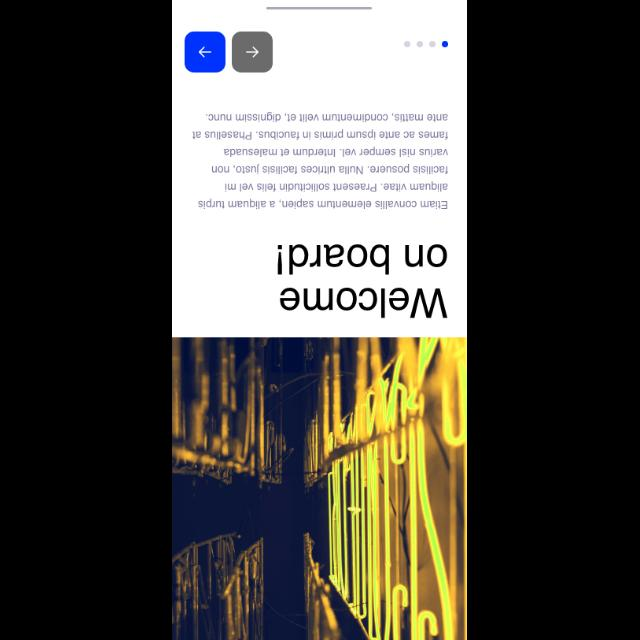icon: (232, 32, 272, 72), (186, 32, 226, 72)
image: (173, 337, 467, 639)
pageindicator: (404, 41, 448, 48)
text: (193, 111, 449, 209), (277, 244, 448, 318)
